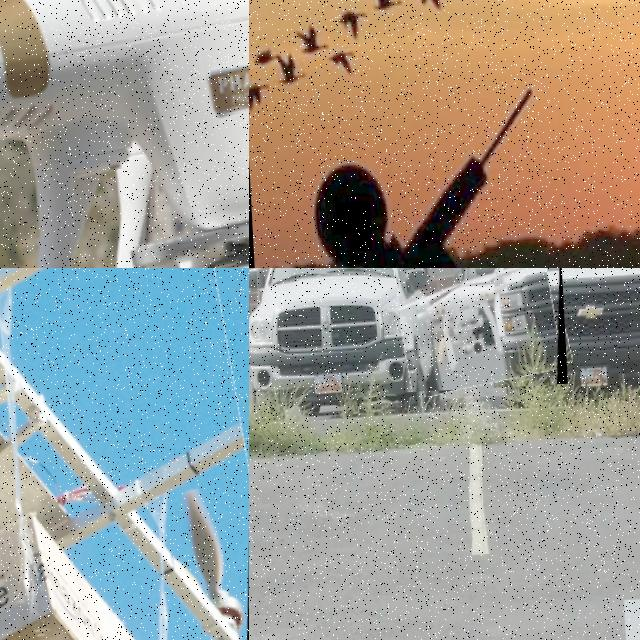0: (0, 0, 249, 268)
drone: (0, 268, 249, 640), (396, 268, 568, 392)
